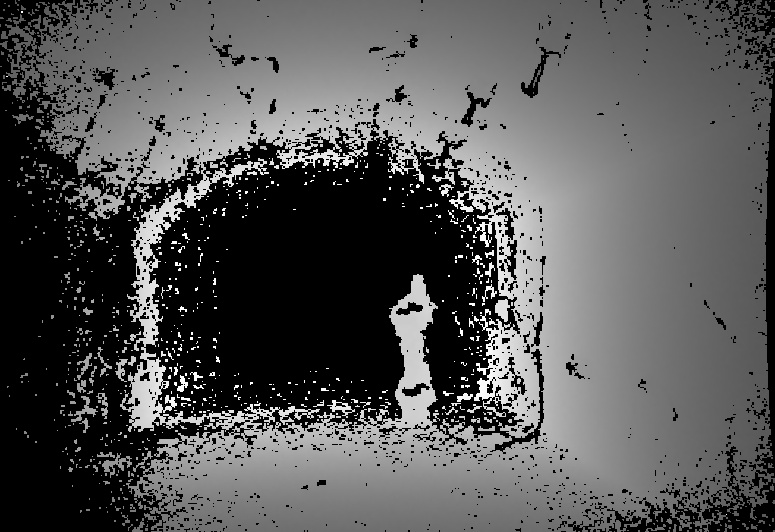person: (390, 271, 438, 421)
